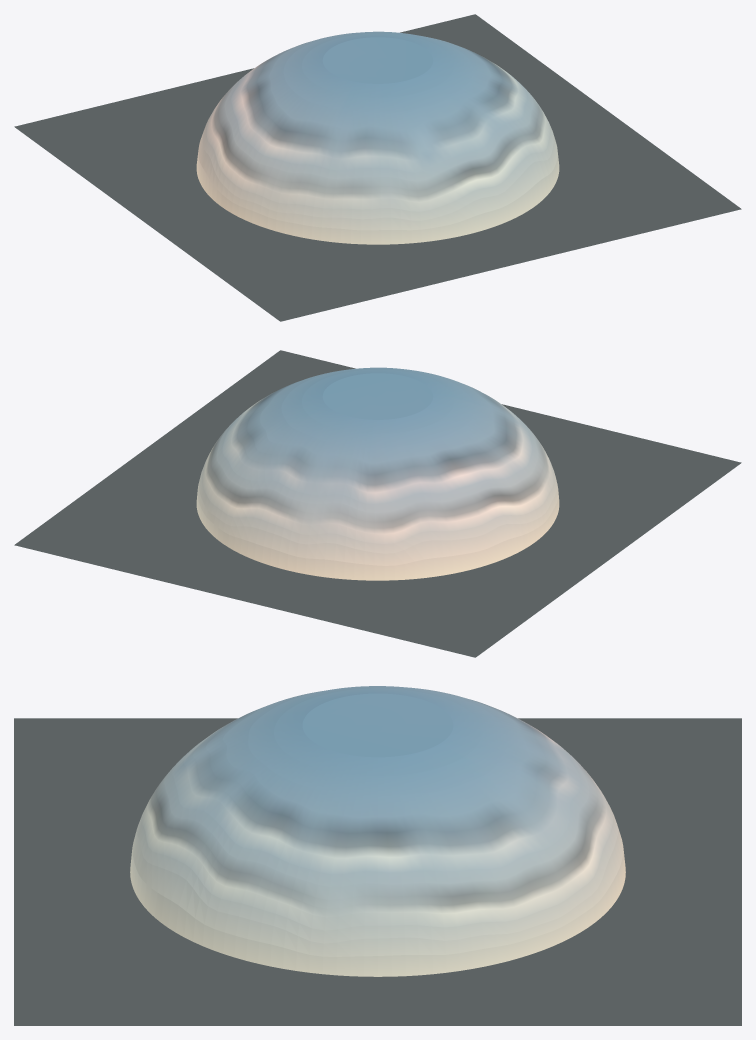
Rendered from defense_0_v3.glb.
The picture shows the model from 3 angles, top to bottom: view 1: azimuth 30°, elevation 25°; view 2: azimuth 150°, elevation 25°; view 3: azimuth 270°, elevation 25°; orthographic projection. The views are drawn at different scales.
Visible parts, largest first — view 1: DISTANT_ground, DISTANT_far; view 2: DISTANT_ground, DISTANT_far; view 3: DISTANT_ground, DISTANT_far.
Part boxes in pixels (x1=…): DISTANT_ground: x1=14, y1=14, x2=741, y2=321; DISTANT_far: x1=196, y1=31, x2=559, y2=244; DISTANT_ground: x1=14, y1=350, x2=741, y2=657; DISTANT_far: x1=196, y1=367, x2=559, y2=580; DISTANT_ground: x1=14, y1=718, x2=741, y2=1025; DISTANT_far: x1=130, y1=686, x2=625, y2=976.
Size of the model in its own units: 1260 by 317 by 1260.
